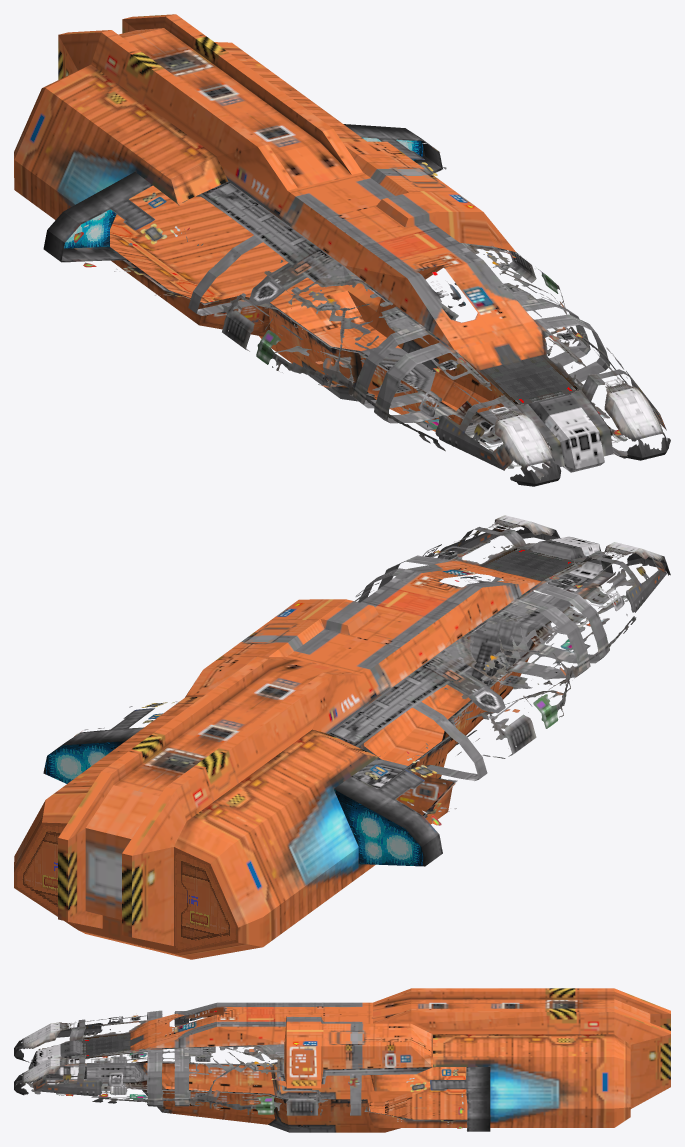
3 renders of one model, top to bottom at view 1: azimuth 30°, elevation 25°; view 2: azimuth 150°, elevation 25°; view 3: azimuth 270°, elevation 25°, orthographic. The views are drawn at different scales.
Parts seen in each view (by area): view 1: LeftoverUV, FrontUV, Badge0_MAT, BurnerUV; view 2: LeftoverUV, FrontUV, RearPlate, BurnerUV, Badge0_MAT; view 3: LeftoverUV, FrontUV, Badge0_MAT.
Part boxes in pixels (bbox=[...]): LeftoverUV: bbox=[14, 14, 453, 349]; FrontUV: bbox=[178, 141, 670, 486]; Badge0_MAT: bbox=[479, 355, 581, 406]; BurnerUV: bbox=[64, 137, 424, 248]; LeftoverUV: bbox=[14, 581, 540, 959]; FrontUV: bbox=[185, 515, 670, 788]; RearPlate: bbox=[14, 822, 238, 953]; BurnerUV: bbox=[43, 741, 424, 866]; Badge0_MAT: bbox=[479, 547, 580, 581]; LeftoverUV: bbox=[149, 988, 670, 1131]; FrontUV: bbox=[14, 1002, 432, 1132]; Badge0_MAT: bbox=[81, 1033, 130, 1058].
Bounding box in the file's own units: 23.69 × 11.02 × 54.4.
